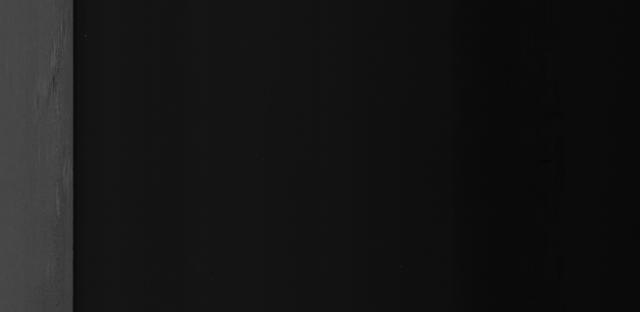silk_spot: (18, 39, 65, 132)
